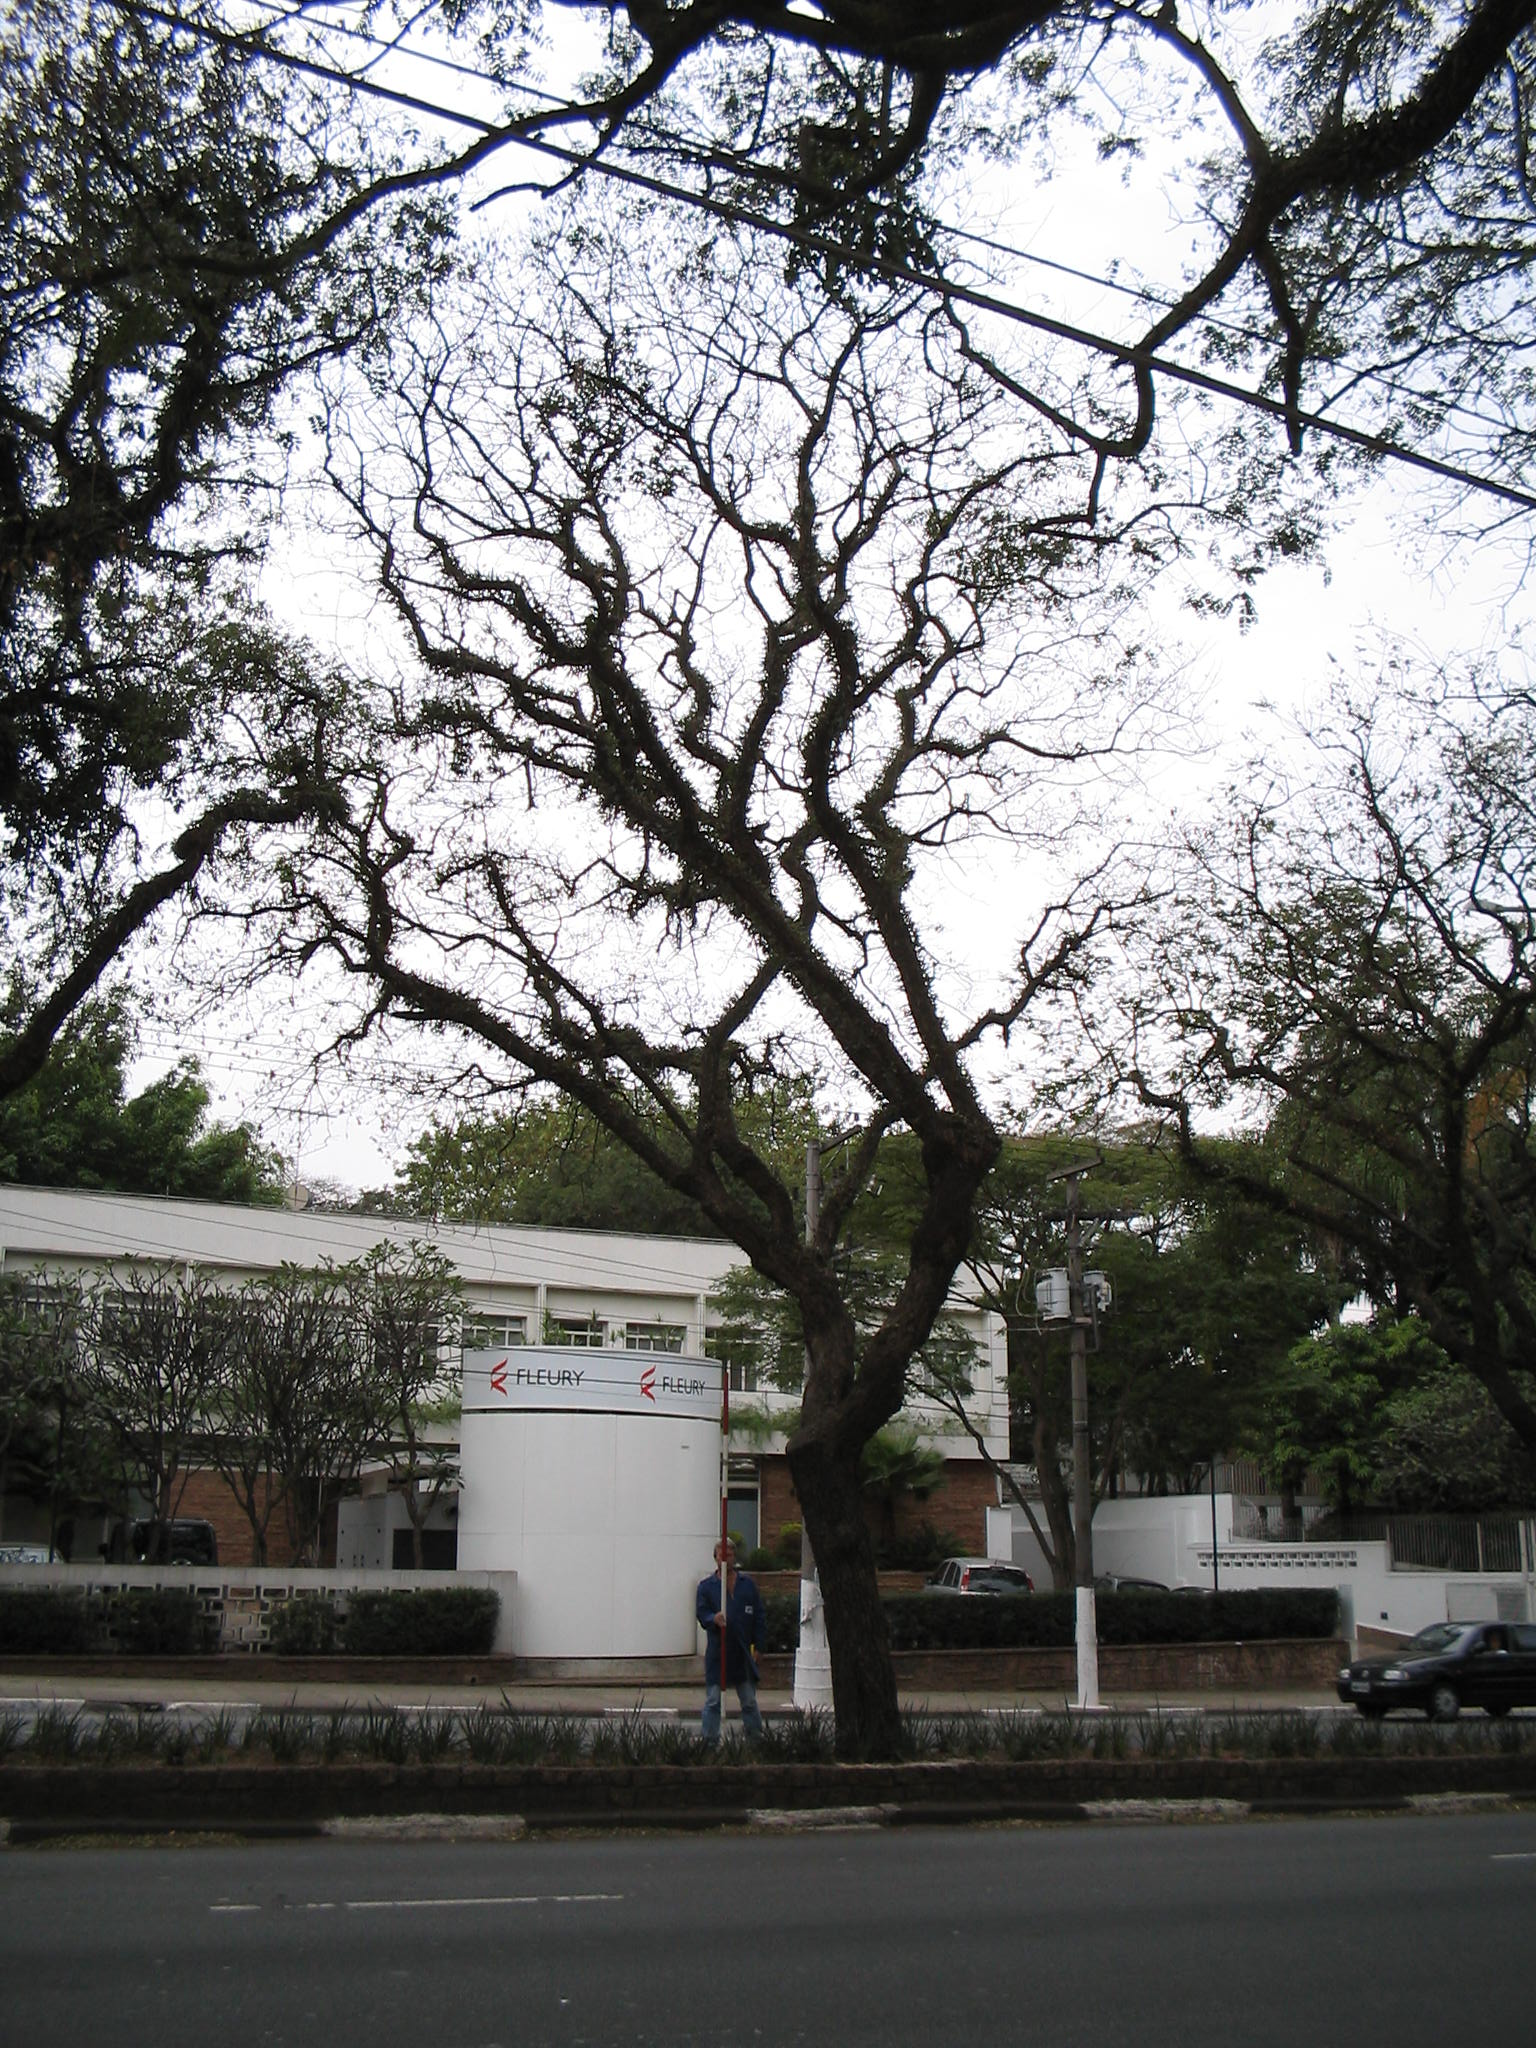stem: (766, 1403, 941, 1758)
stick: (694, 1367, 753, 1761)
tree: (194, 340, 1208, 1766), (1115, 684, 1536, 1588)
